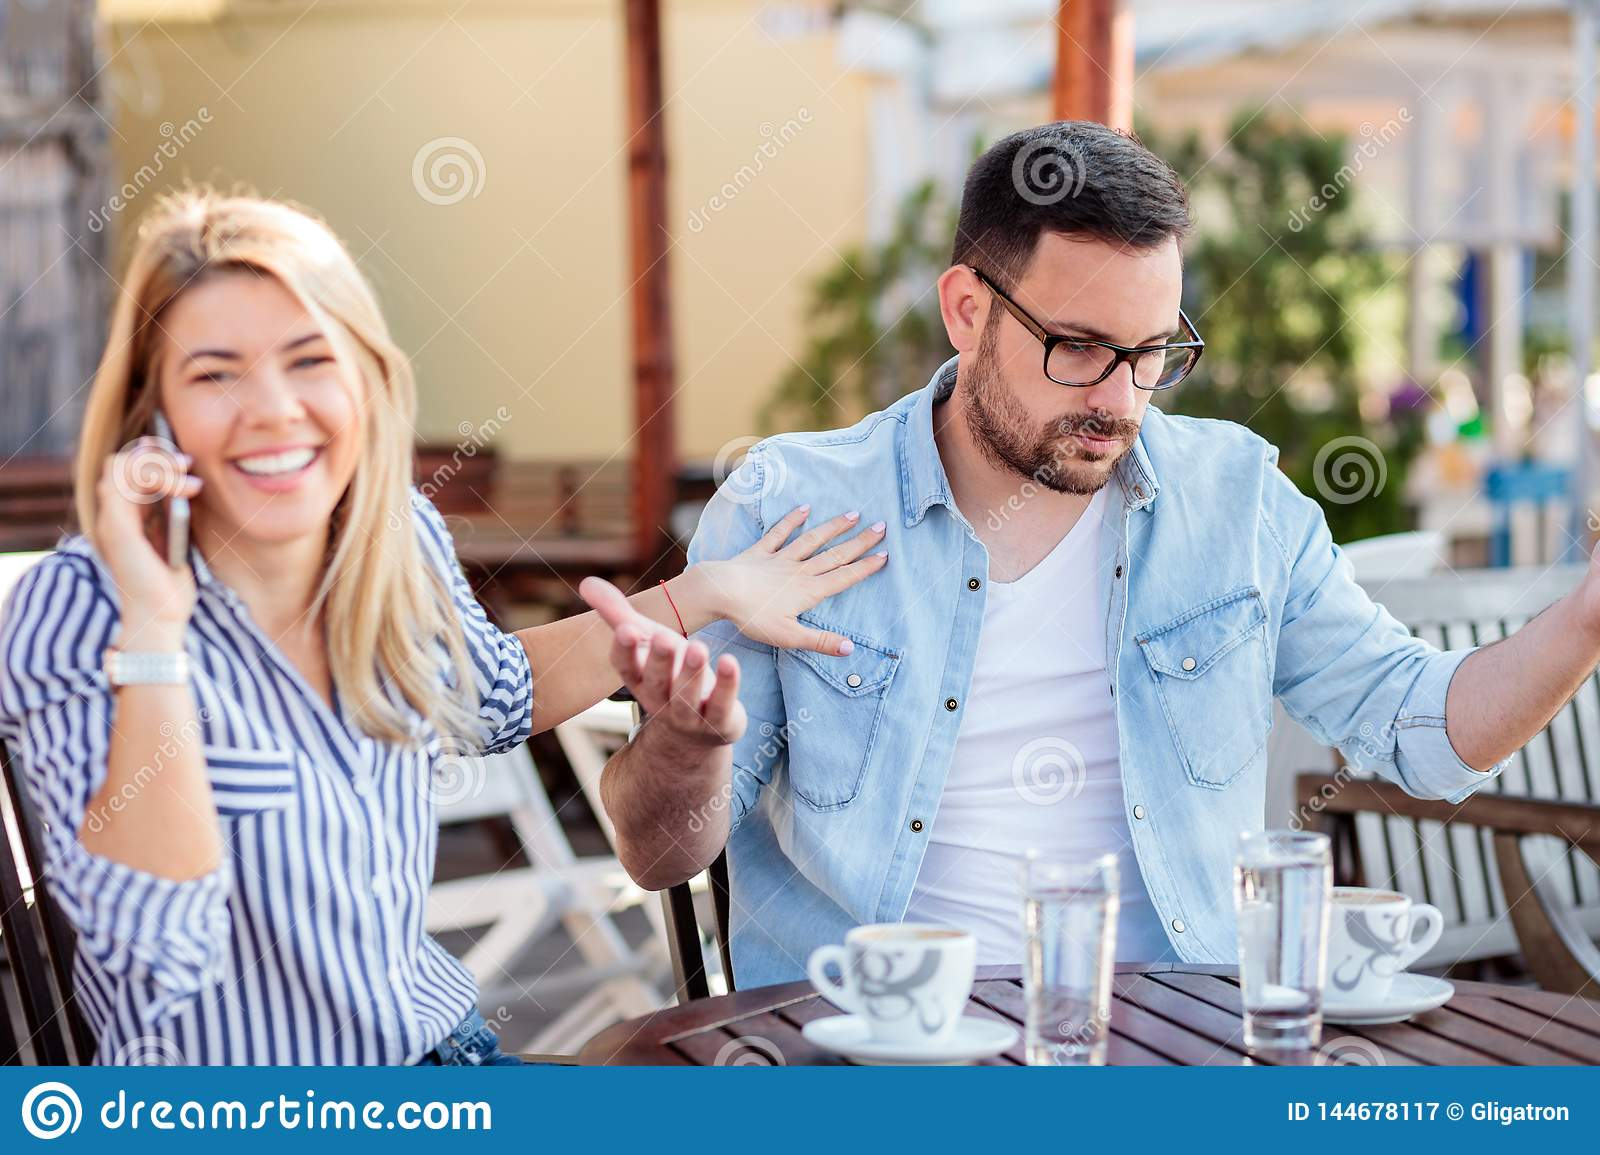phone: (143, 402, 202, 580)
talk: (82, 324, 364, 614)
